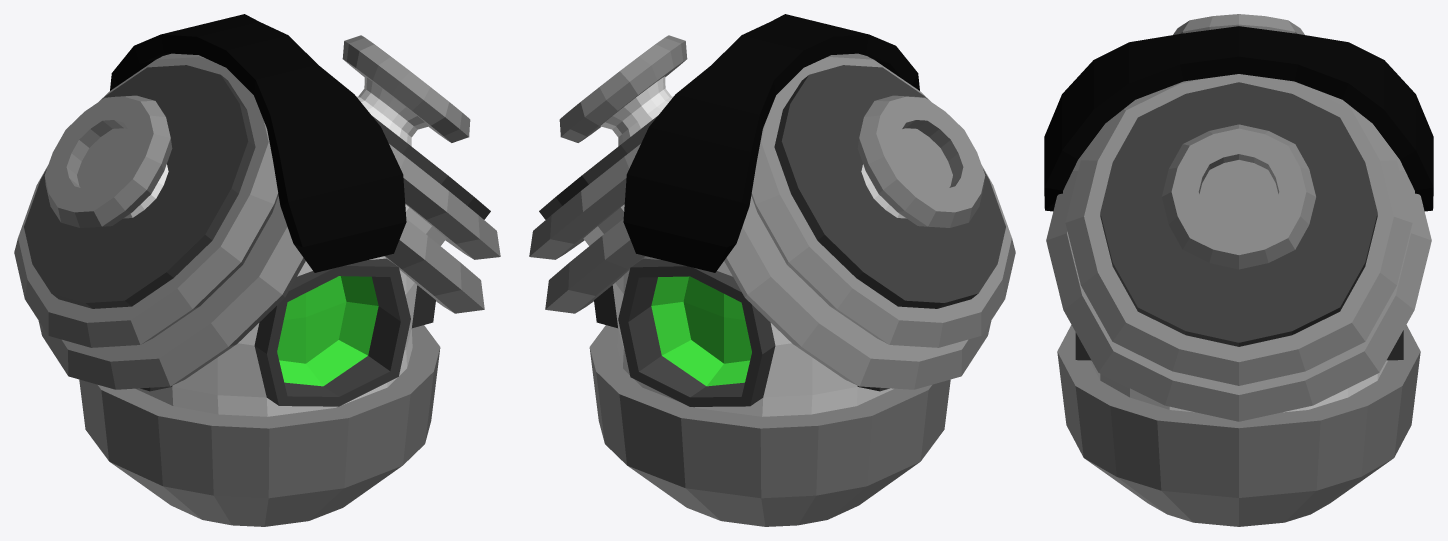
Rendered from DoubleEmitter.fbx.
3 renders of one model, left to right at view 1: azimuth 30°, elevation 25°; view 2: azimuth 150°, elevation 25°; view 3: azimuth 270°, elevation 25°, orthographic.
Visible parts, largest first — view 1: Emitter, Cube, Cube.001, Emitter.001; view 2: Emitter, Cube, Cube.001, Emitter.001; view 3: Emitter.001, Cube, Cube.001, Emitter.
Boxes of the visible parts, x1,y1,x2,y2 form: Emitter: (14, 53, 305, 389); Cube: (79, 256, 440, 526); Cube.001: (110, 14, 406, 272); Emitter.001: (342, 35, 500, 313); Emitter: (724, 53, 1015, 389); Cube: (589, 256, 950, 526); Cube.001: (623, 14, 919, 272); Emitter.001: (529, 35, 687, 313); Emitter.001: (1046, 74, 1431, 421); Cube: (1057, 325, 1420, 526); Cube.001: (1044, 26, 1433, 211); Emitter: (1173, 14, 1304, 34).
Bounding box in the file's own units: 691 × 719 × 557.
